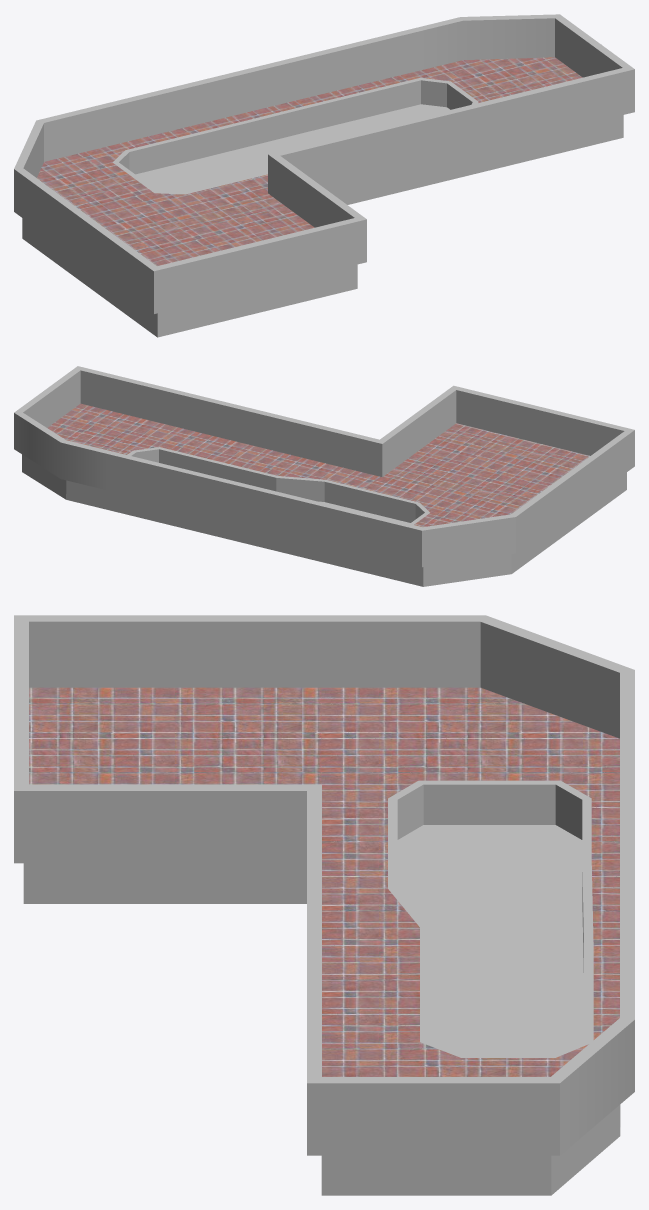
Rendered from hirise_parts04_pool.fbx.
3 renders of one model, top to bottom at view 1: azimuth 30°, elevation 25°; view 2: azimuth 150°, elevation 25°; view 3: azimuth 270°, elevation 25°, orthographic. The views are drawn at different scales.
Parts seen in each view (by area): view 1: hirise_parts04_pool; view 2: hirise_parts04_pool; view 3: hirise_parts04_pool.
Part boxes in pixels (left/top/right/bottom): hirise_parts04_pool: left=14, top=14, right=634, bottom=337; hirise_parts04_pool: left=14, top=366, right=634, bottom=586; hirise_parts04_pool: left=14, top=615, right=634, bottom=1195.
Bounding box in the file's own units: 19.87 × 2.34 × 11.15.
